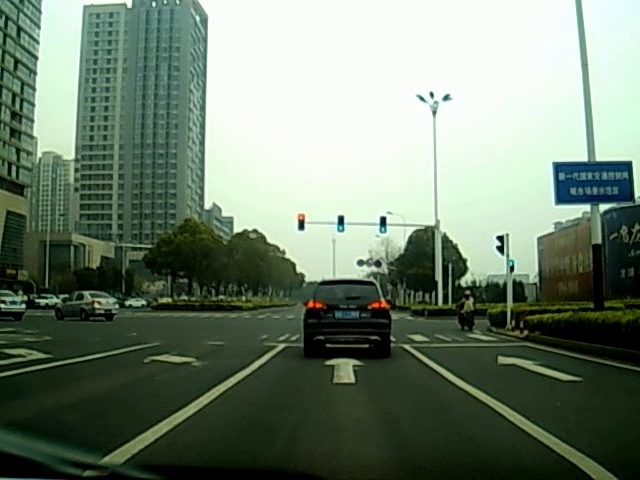Traffic_Light_go: (336, 215, 347, 235), (377, 216, 387, 235)
Traffic_Light_stop: (297, 214, 304, 230)
